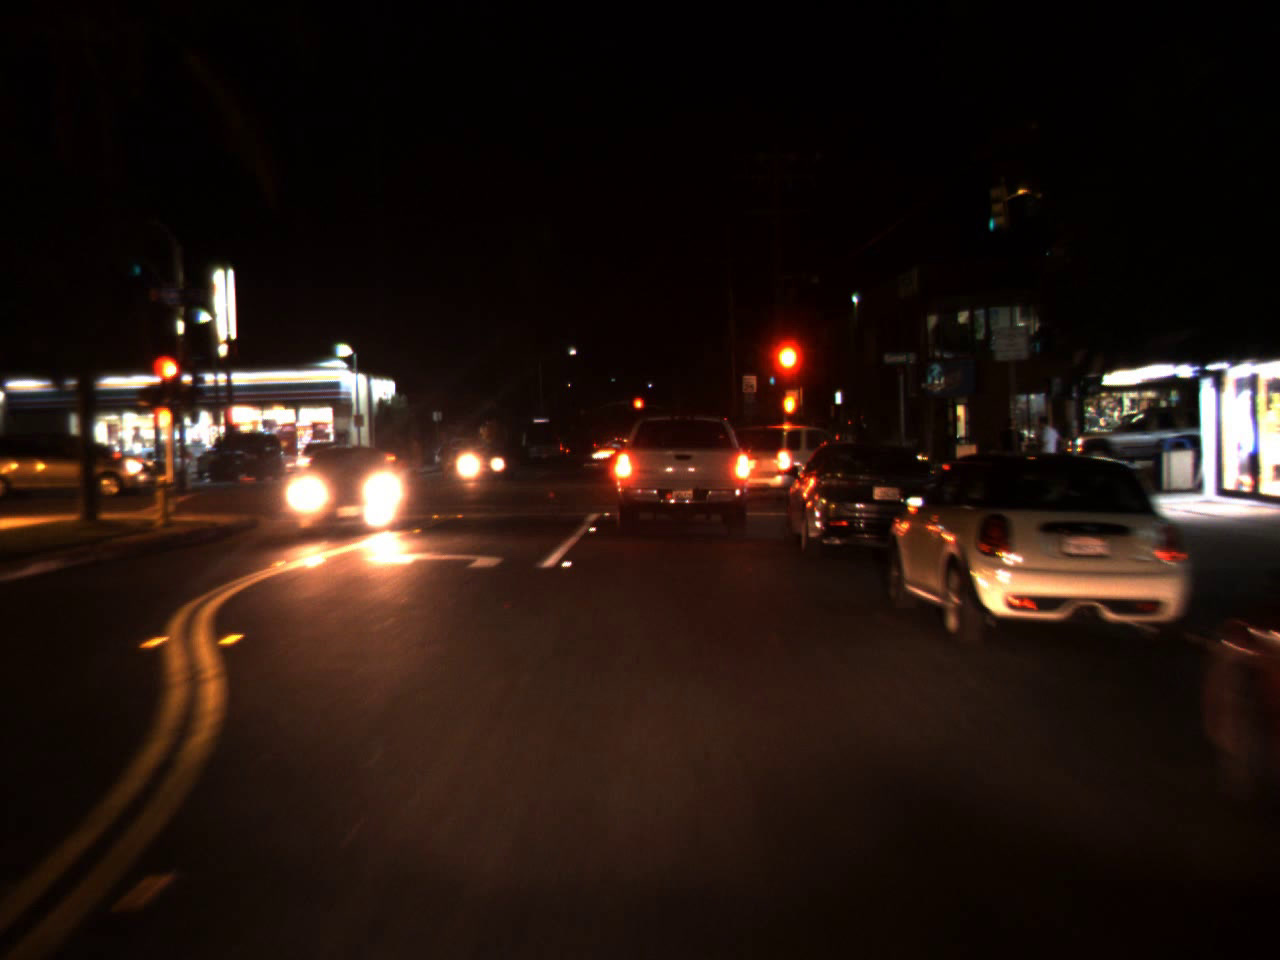stop: (148, 351, 184, 413), (773, 342, 807, 398), (631, 395, 646, 422)
